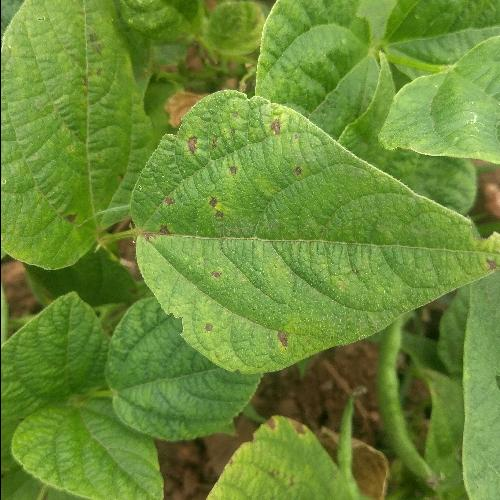embun tepung: (124, 308, 236, 432)
mozaik: (135, 64, 395, 304)
